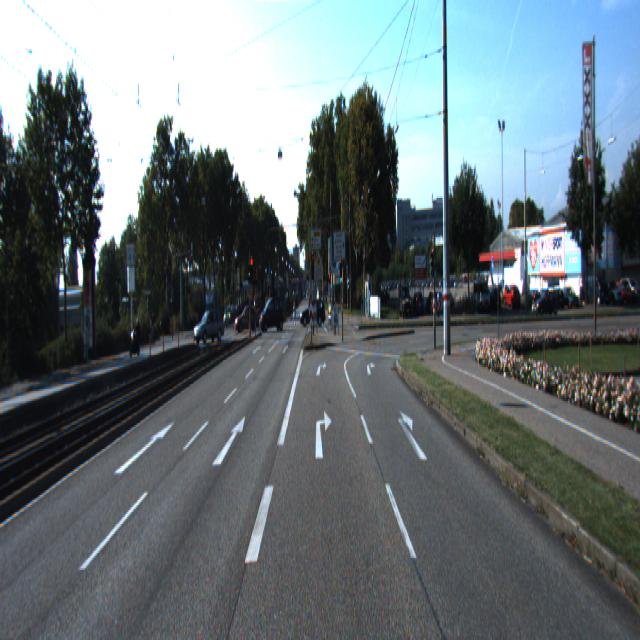Car: (193, 307, 225, 347), (259, 294, 284, 331), (234, 305, 260, 335), (130, 315, 143, 357)
